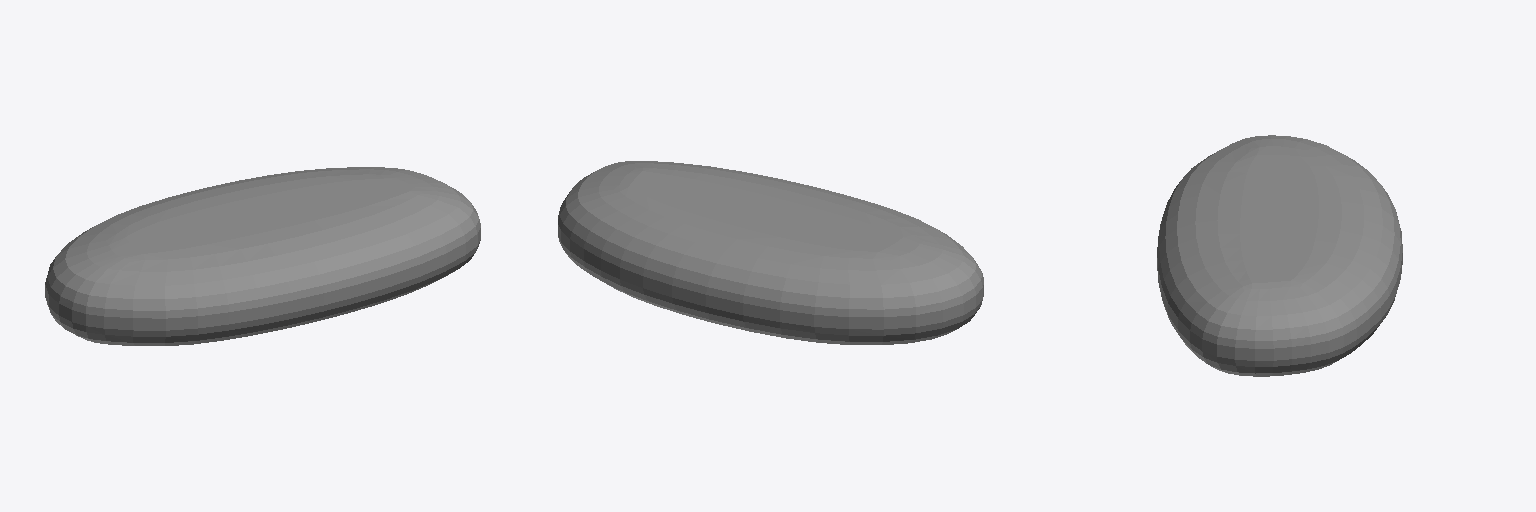
Rendered from Cloud_Maru_005.obj.
3 views of the same model, side by side, from view 1: azimuth 30°, elevation 25°; view 2: azimuth 150°, elevation 25°; view 3: azimuth 270°, elevation 25° (orthographic).
Visible parts, largest first — view 1: Cloud_Maru_005; view 2: Cloud_Maru_005; view 3: Cloud_Maru_005.
Boxes of the visible parts, x1,y1,x2,y2 form: Cloud_Maru_005: [45, 167, 480, 345]; Cloud_Maru_005: [558, 161, 983, 344]; Cloud_Maru_005: [1157, 135, 1402, 376].
Size of the model in its own units: 0.7763 by 0.149 by 0.4074.